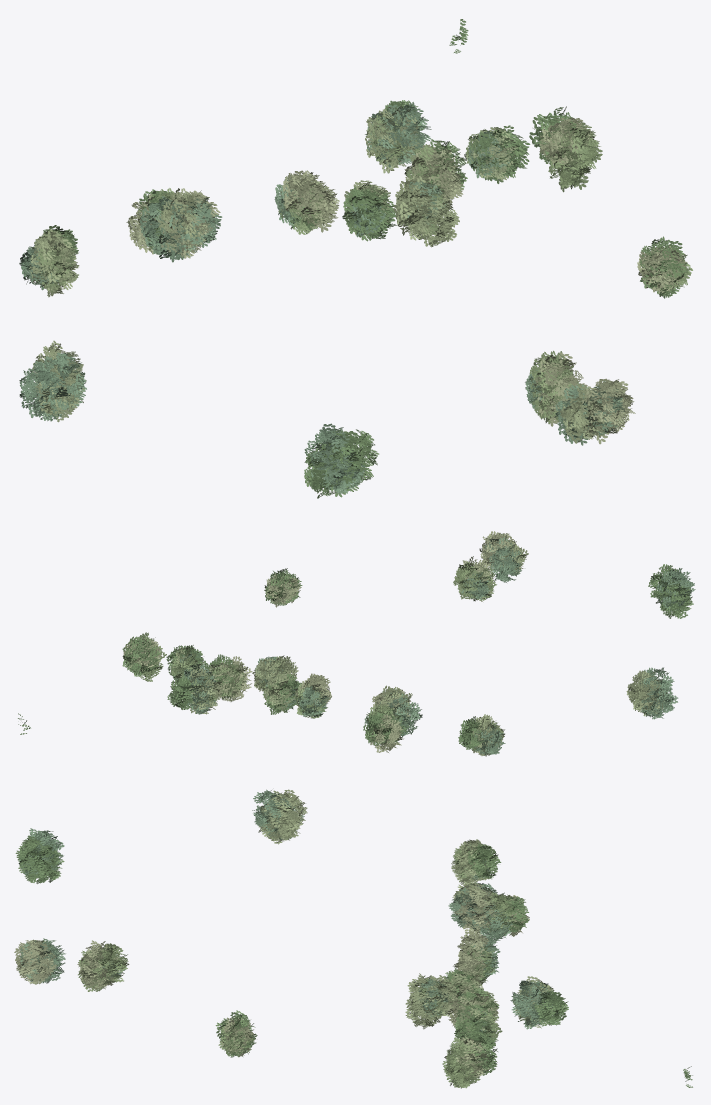
The model's file is campus-tree--1_-1-near-photo.glb.
3 renders of one model, top to bottom at view 1: azimuth 30°, elevation 25°; view 2: azimuth 150°, elevation 25°; view 3: azimuth 270°, elevation 25°, orthographic. The views are drawn at different scales.
Parts seen in each view (by area): view 1: Campus leaf canopy; view 2: Campus leaf canopy; view 3: Campus leaf canopy.
Boxes of the visible parts, x1,y1,x2,y2 form: Campus leaf canopy: [19, 19, 692, 498]; Campus leaf canopy: [18, 531, 695, 756]; Campus leaf canopy: [14, 789, 692, 1088].
Size of the model in its own units: 62.31 by 8 by 67.41.
Materials: 1 (1 with a texture image).
